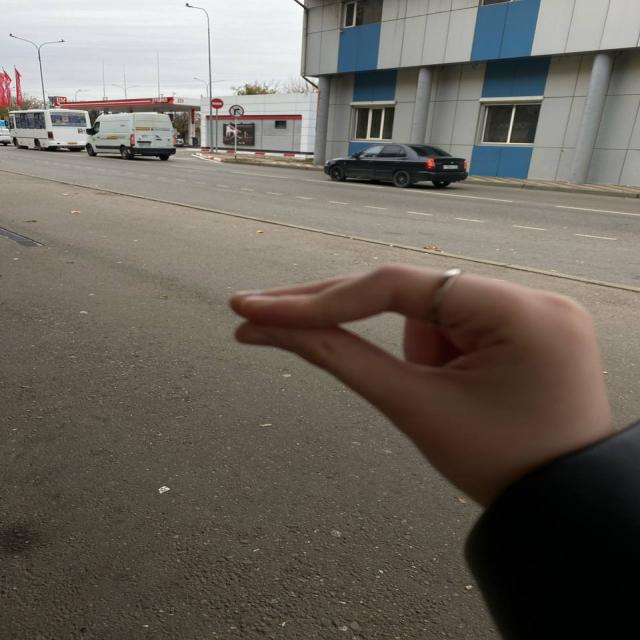ch: (198, 256, 633, 456)
